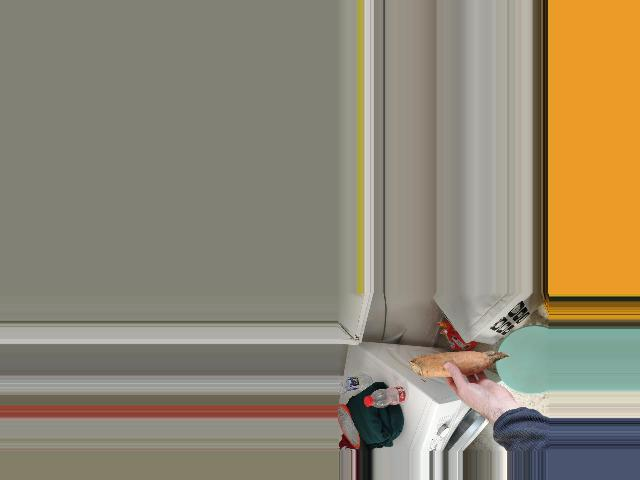sweet_potato: (419, 352, 502, 381)
